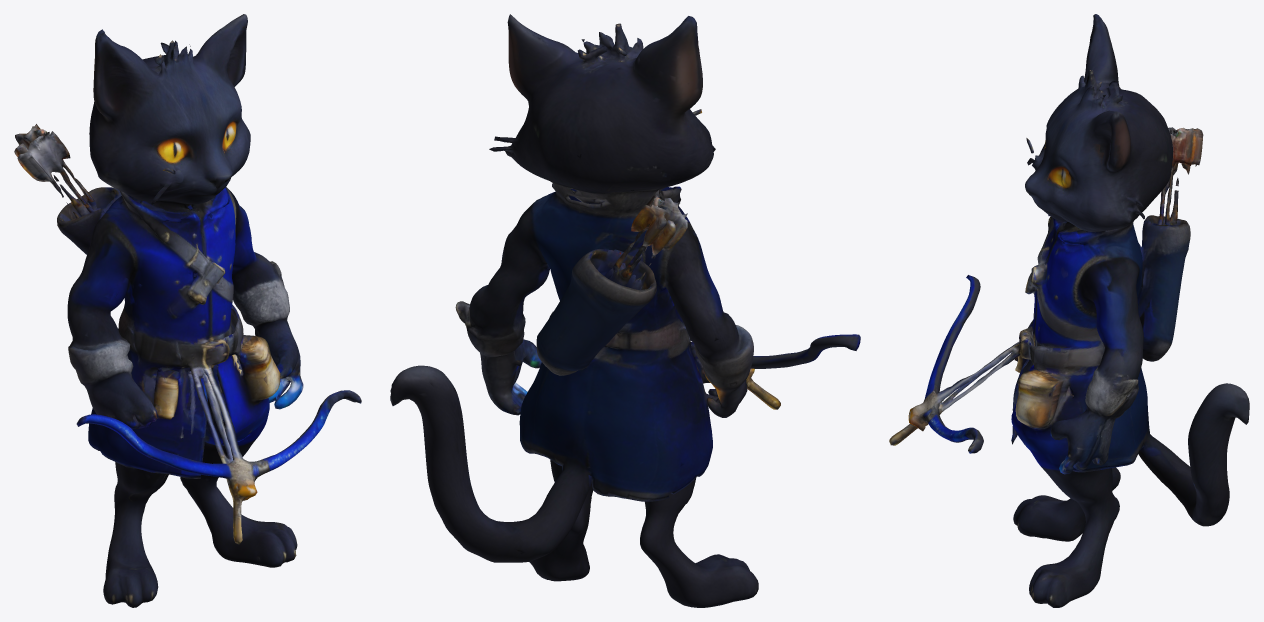
File: cat.glb
3 views of the same model, side by side, from view 1: azimuth 30°, elevation 25°; view 2: azimuth 150°, elevation 25°; view 3: azimuth 270°, elevation 25° (orthographic). The views are drawn at different scales.
Size of the model in its own units: 1.07 by 2 by 1.26.
1 material, 1 textured.
